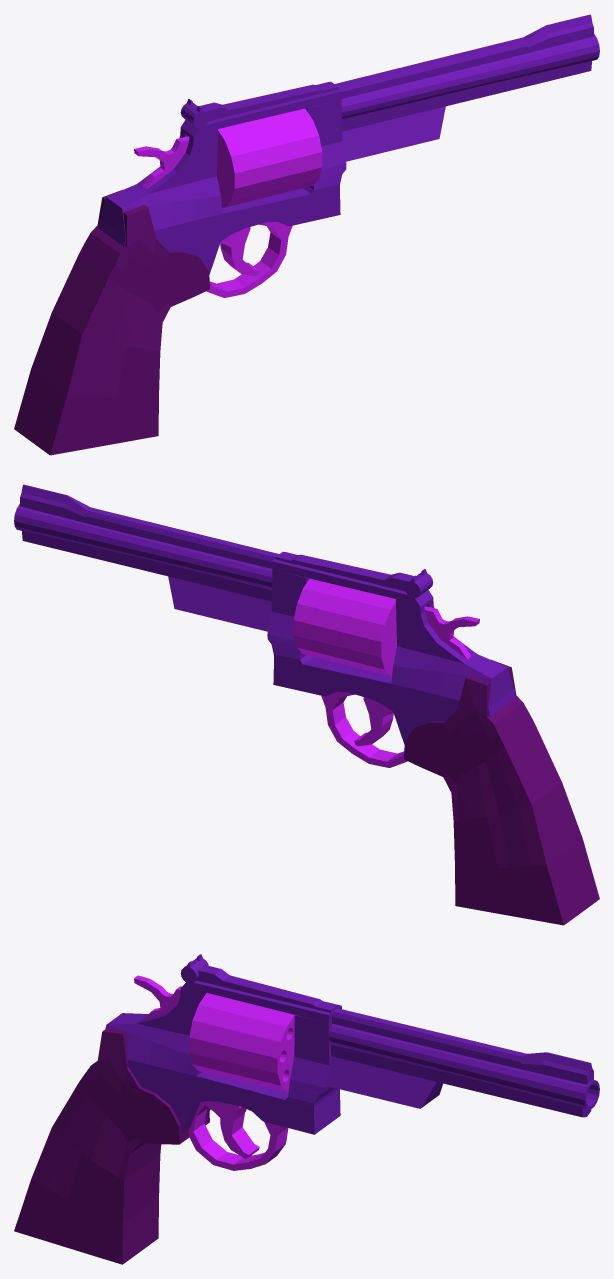
The model's file is revolver.fbx.
3 renders of one model, top to bottom at view 1: azimuth 30°, elevation 25°; view 2: azimuth 150°, elevation 25°; view 3: azimuth 330°, elevation 25°, orthographic.
Visible parts, largest first — view 1: handle, revolver body, Cylinder.006, Cube.004, Cylinder, Cube.003, Cylinder.002, Cube.002, Cube.005; view 2: handle, revolver body, Cylinder.006, Cube.004, Cylinder, Cube.003, Cylinder.002, Cube.002, Cube.005; view 3: handle, revolver body, Cylinder.006, Cube.004, Cylinder, Cube.003, Cylinder.002, Cube.002, Cube.005, Cylinder.001.
Part boxes in pixels (left/top/right/bottom): handle: left=14, top=189, right=209, bottom=455; revolver body: left=98, top=82, right=346, bottom=274; Cylinder.006: left=217, top=108, right=322, bottom=207; Cube.004: left=342, top=61, right=591, bottom=161; Cylinder: left=341, top=34, right=599, bottom=119; Cube.003: left=334, top=14, right=593, bottom=98; Cylinder.002: left=206, top=222, right=292, bottom=297; Cube.002: left=199, top=81, right=338, bottom=121; Cube.005: left=134, top=136, right=189, bottom=188; handle: left=404, top=659, right=599, bottom=925; revolver body: left=267, top=552, right=515, bottom=744; Cylinder.006: left=293, top=578, right=396, bottom=676; Cube.004: left=22, top=531, right=271, bottom=631; Cylinder: left=14, top=504, right=272, bottom=589; Cube.003: left=20, top=484, right=279, bottom=568; Cylinder.002: left=321, top=692, right=407, bottom=767; Cube.002: left=275, top=551, right=414, bottom=591; Cube.005: left=424, top=606, right=479, bottom=658; handle: left=14, top=1029, right=209, bottom=1264; revolver body: left=105, top=980, right=341, bottom=1134; Cylinder.006: left=189, top=993, right=294, bottom=1091; Cube.004: left=326, top=1044, right=591, bottom=1117; Cylinder: left=329, top=1024, right=599, bottom=1109; Cube.003: left=332, top=1008, right=593, bottom=1084; Cylinder.002: left=189, top=1101, right=288, bottom=1170; Cube.002: left=197, top=965, right=338, bottom=1012; Cube.005: left=134, top=975, right=181, bottom=1019; Cylinder.001: left=180, top=954, right=208, bottom=982.
Size of the model in its own units: 479 by 250 by 64.51.
